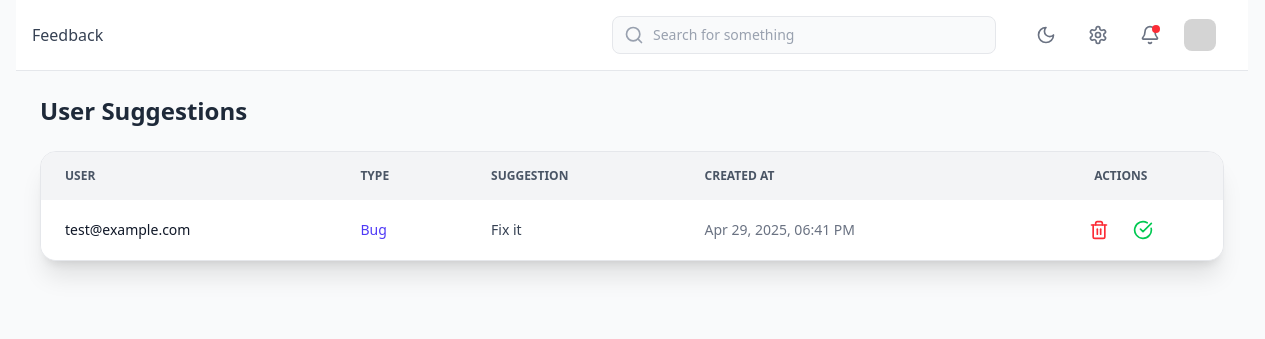
Test: Feedback Component › deletes a suggestion
This screenshot has width=1265, height=339.
Click the button titled "Delete": {"x": 1099, "y": 230} x1=1085 y1=216 x2=1113 y2=244
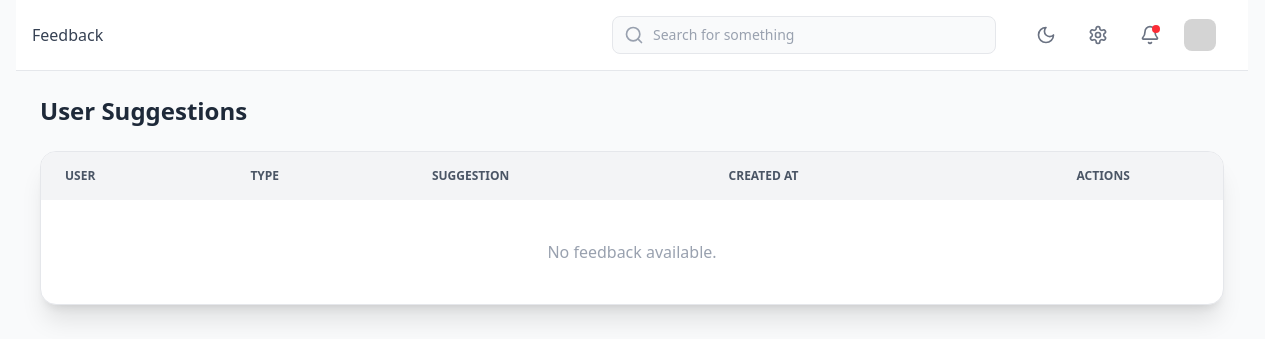
Check: the text "test@example.com" is gone
